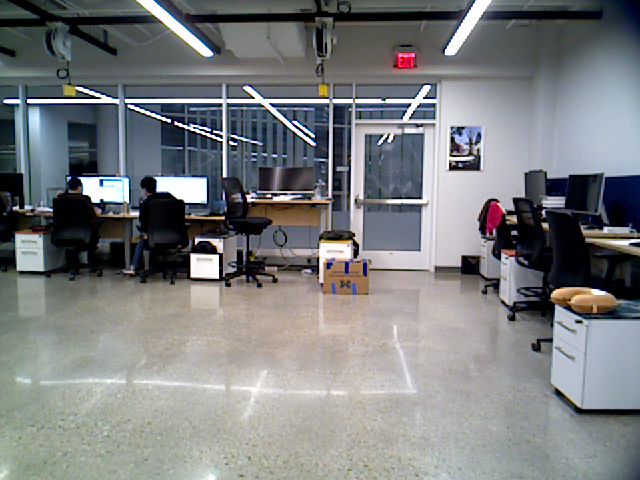painting3: (447, 126, 484, 171)
